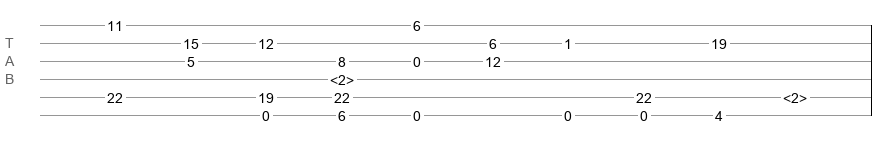0: (262, 108, 270, 118), (413, 54, 421, 64), (413, 108, 421, 118), (564, 108, 572, 118), (640, 108, 648, 118)
1: (564, 36, 572, 46)
11: (107, 18, 123, 28)
12: (258, 36, 274, 46), (485, 54, 501, 64)
15: (183, 36, 199, 46)
19: (258, 90, 274, 100), (711, 36, 727, 46)
22: (107, 90, 123, 100), (334, 90, 350, 100), (636, 90, 652, 100)
4: (715, 108, 723, 118)
5: (187, 54, 195, 64)
6: (338, 108, 346, 118), (413, 18, 421, 28), (489, 36, 497, 46)
8: (338, 54, 346, 64)
harmonic: (330, 72, 354, 82), (783, 90, 807, 100)
